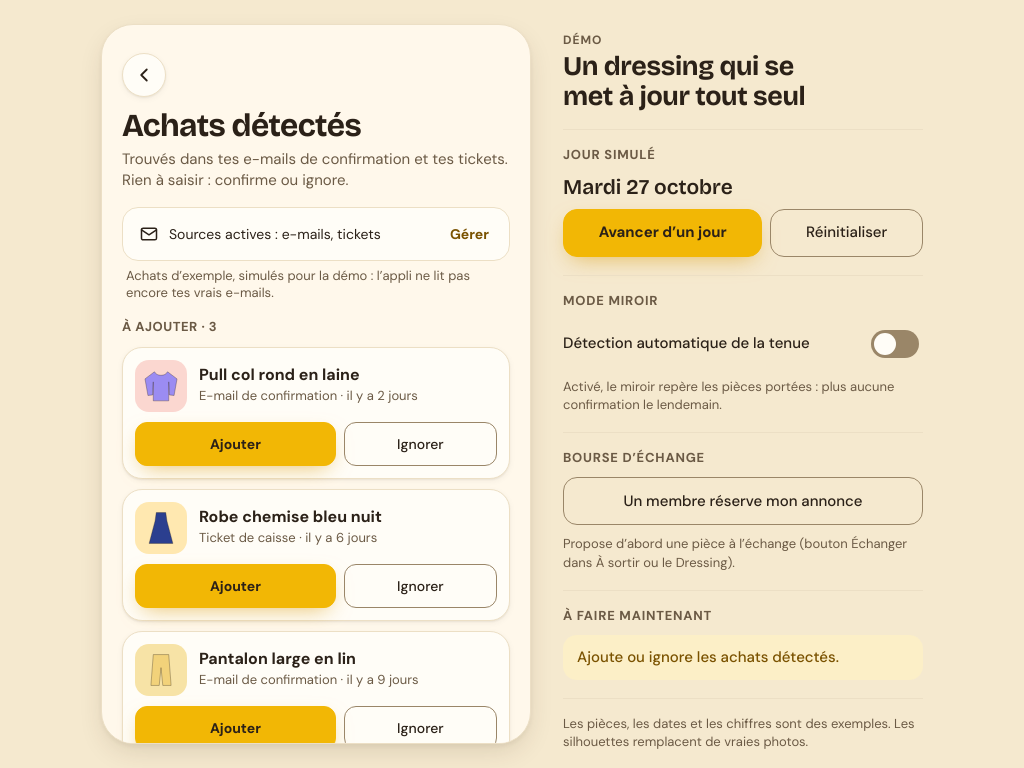
Test case: Achats détectés › « Gérer » affiche les sources en exemple
This screenshot has width=1024, height=768.
Check: the heading "Achats détectés" is shown, box [122, 106, 361, 145]
What coordinates should you click on to do the following:
click the button "Gérer"
I would click on:
 (469, 234)
Its box is [436, 212, 503, 256].
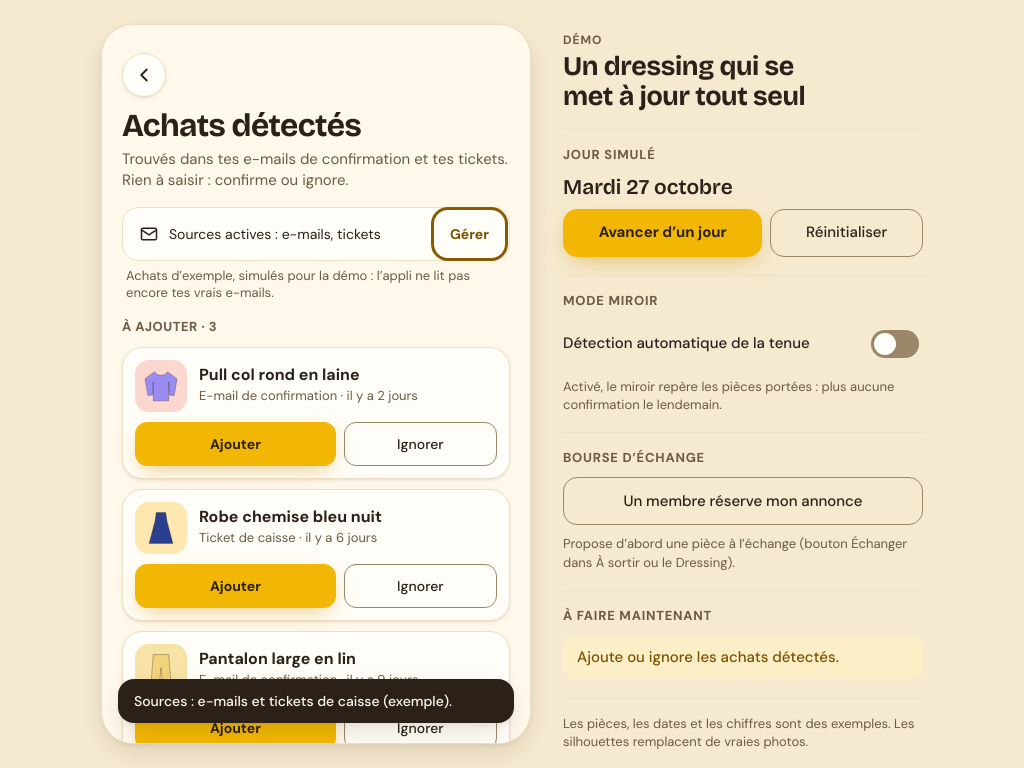
Check: the text "Sources : e-mails et tickets de caisse (exemple)." is shown, box [134, 691, 452, 711]
